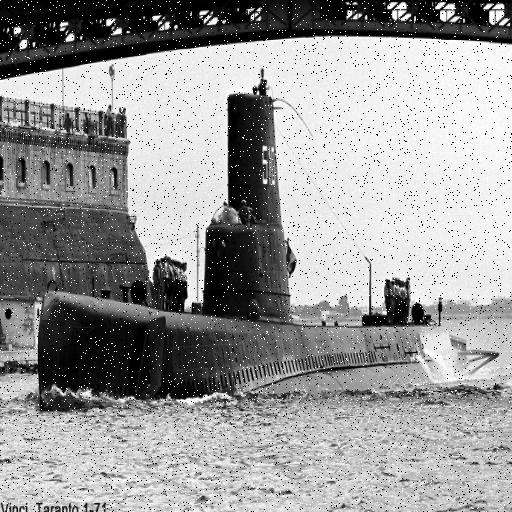submarine: (40, 85, 497, 400)
